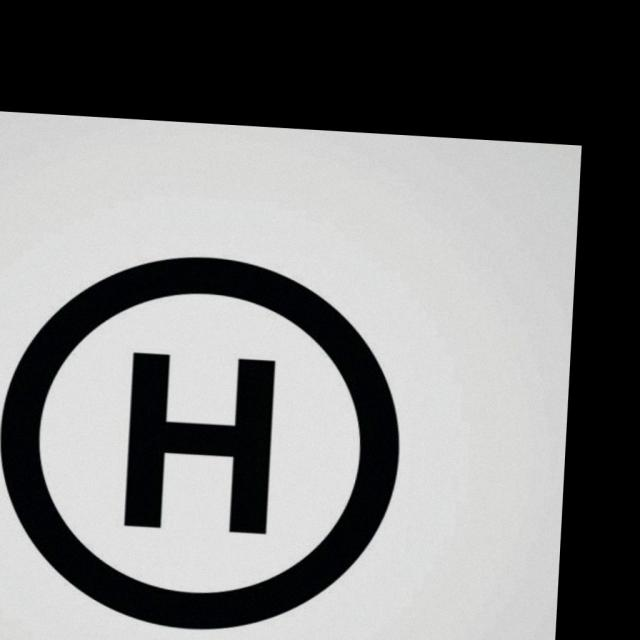helipad: (0, 244, 402, 633)
